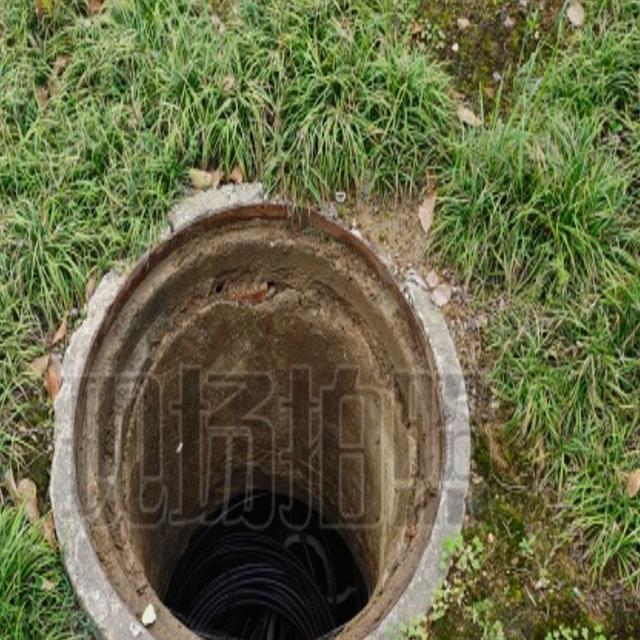lose: (43, 161, 471, 640)
